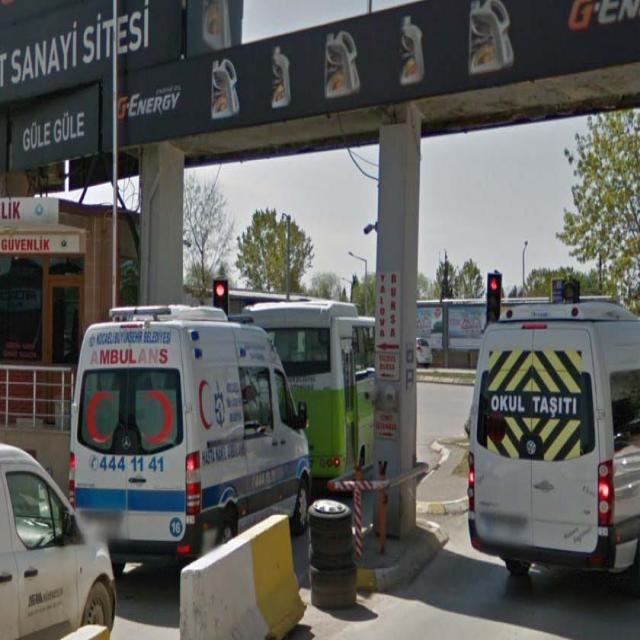kirmizi: (486, 273, 501, 322)
